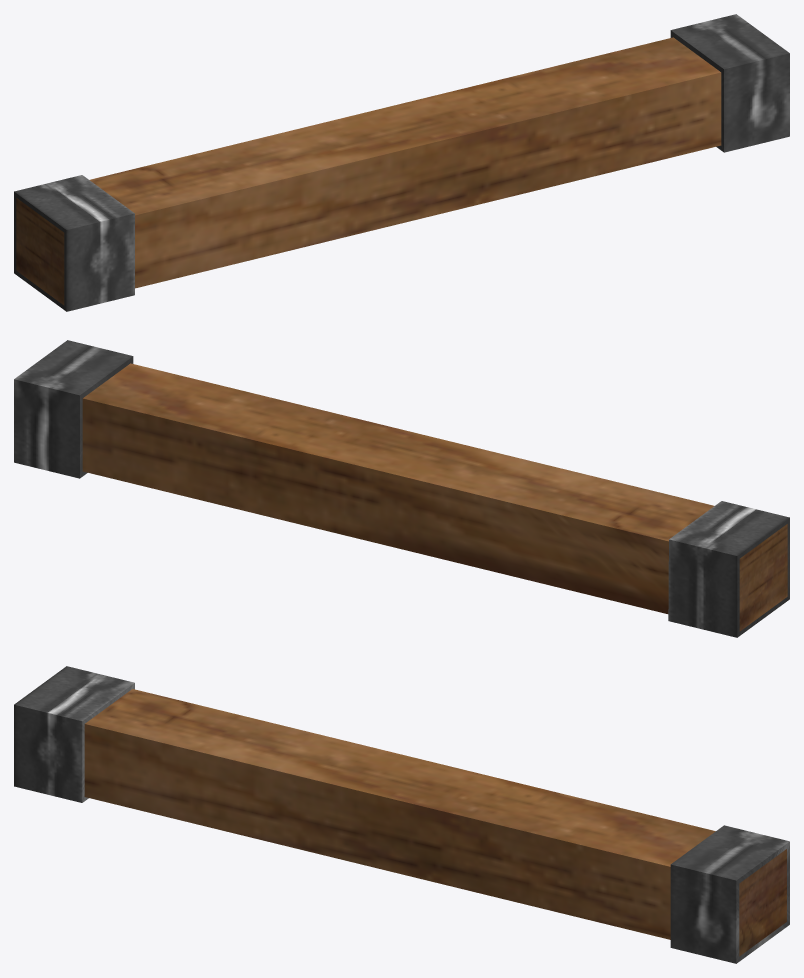
Rendered from 61_ELM_Woodstick.fbx.
The picture shows the model from 3 angles, top to bottom: view 1: azimuth 30°, elevation 25°; view 2: azimuth 150°, elevation 25°; view 3: azimuth 330°, elevation 25°; orthographic projection.
Visible parts, largest first — view 1: WoodStick_part3, WoodStick_part4, WoodStick_part1, WoodStick_part2, WoodStick_part5; view 2: WoodStick_part3, WoodStick_part4, WoodStick_part1, WoodStick_part5, WoodStick_part2; view 3: WoodStick_part3, WoodStick_part4, WoodStick_part1, WoodStick_part2, WoodStick_part5.
Part boxes in pixels (x1=…): WoodStick_part3: x1=14, y1=143, x2=350, y2=311; WoodStick_part4: x1=353, y1=48, x2=676, y2=192; WoodStick_part1: x1=622, y1=14, x2=789, y2=169; WoodStick_part2: x1=342, y1=117, x2=527, y2=237; WoodStick_part5: x1=238, y1=115, x2=370, y2=215; WoodStick_part3: x1=424, y1=475, x2=789, y2=637; WoodStick_part4: x1=128, y1=374, x2=406, y2=529; WoodStick_part1: x1=14, y1=340, x2=175, y2=493; WoodStick_part5: x1=399, y1=449, x2=590, y2=541; WoodStick_part2: x1=324, y1=431, x2=480, y2=555; WoodStick_part3: x1=14, y1=666, x2=303, y2=847; WoodStick_part4: x1=397, y1=754, x2=675, y2=916; WoodStick_part1: x1=574, y1=821, x2=789, y2=963; WoodStick_part2: x1=294, y1=758, x2=479, y2=893; WoodStick_part5: x1=213, y1=726, x2=400, y2=829.
Size of the model in its own units: 2.81 by 0.3092 by 0.3603.
1 material, 1 textured.
